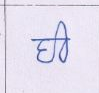i_matra: (56, 21, 68, 63)
